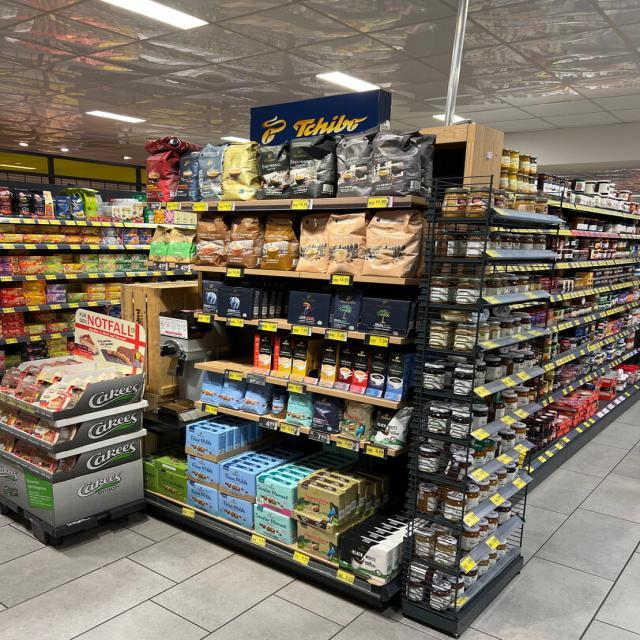AB Bohne: (202, 279, 220, 316)
AB Gemahlen: (216, 285, 256, 320)
Athiopien Gemahlen: (166, 226, 197, 265), (147, 223, 171, 264)
BM Bohne: (331, 291, 363, 332)
BM Gemahlen: (358, 297, 411, 338)
BW Bohne: (367, 406, 412, 452)
BW Gemahlen: (338, 535, 388, 585)
Barista CB: (222, 141, 260, 201)
Barista CC: (199, 142, 223, 202)
Barista Espresso: (178, 152, 202, 202)
Barista Kolumbien: (146, 153, 178, 202)
C Fino Bohne: (310, 393, 343, 436)
CC Mild: (364, 210, 416, 278), (326, 212, 369, 276), (294, 213, 329, 274), (290, 338, 309, 381)
CC Vollmundig 36 Pads: (223, 217, 263, 270), (193, 216, 231, 268), (260, 217, 295, 271)
Colombia BB Bohne: (339, 399, 375, 443)
Colombia BB Gemahlen: (295, 481, 341, 527), (295, 519, 339, 565)
Empty Shelf: (228, 329, 252, 372), (259, 290, 288, 323), (304, 341, 323, 384)
Espresso Kraftig: (290, 135, 336, 198), (258, 140, 292, 200)
Espresso M Art: (372, 130, 417, 196), (336, 134, 372, 197)
FM Bohne: (220, 377, 248, 413), (240, 383, 269, 417), (199, 370, 225, 406)
FM Gemahlen: (183, 423, 222, 463), (218, 463, 257, 503), (218, 491, 253, 532), (186, 480, 220, 518), (185, 454, 220, 490)
FM Instant: (267, 388, 289, 421)
Herzhatfe Mundig: (157, 468, 188, 505)
LG Gemahlen: (287, 290, 332, 328)
SM Bohne: (285, 391, 315, 428)
SM Gemahlen: (254, 504, 292, 547), (256, 476, 293, 519)
Simo CCMild: (272, 336, 294, 378)
Simo CCVollmundig: (252, 332, 276, 376)
Simo Decaff: (319, 341, 338, 388)
Simo Es Elegant: (349, 346, 372, 395)
Simo Es Kraft: (336, 344, 354, 391)
Simo Kaffee Kraft: (366, 349, 387, 398)
Simo Kaffee Mild: (385, 352, 407, 402)
